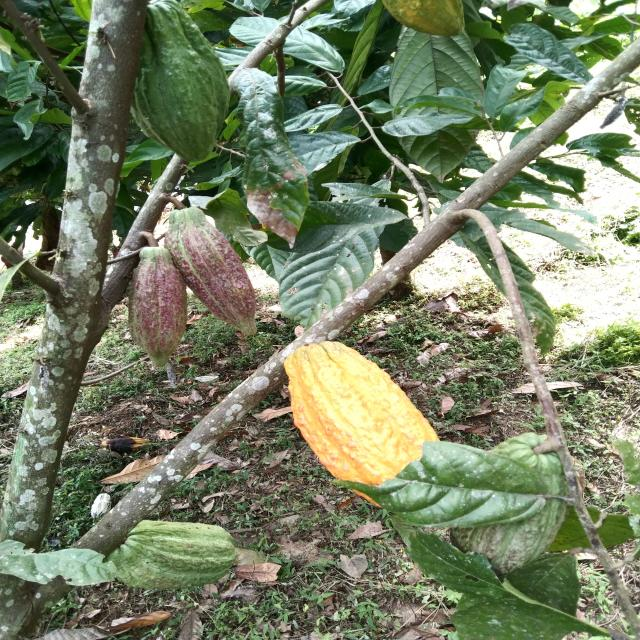Sana: (283, 344, 444, 483), (133, 3, 233, 158), (167, 210, 263, 338), (111, 523, 239, 579), (130, 249, 188, 365), (382, 0, 465, 37)
